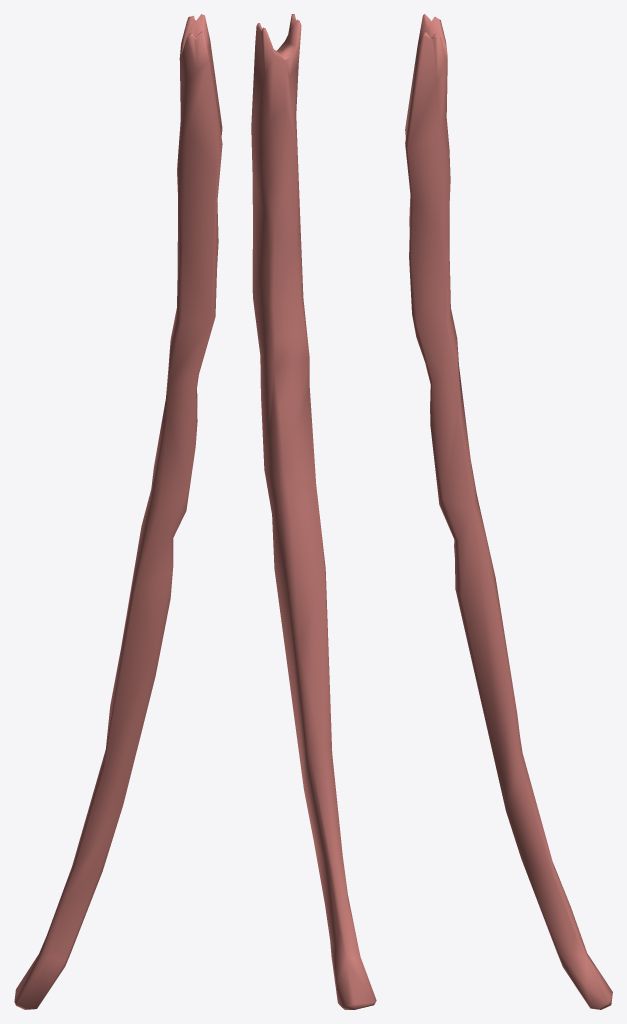
The picture shows the model from 3 angles, left to right: view 1: azimuth 90°, elevation 25°; view 2: azimuth 210°, elevation 25°; view 3: azimuth 270°, elevation 25°; orthographic projection. The views are drawn at different scales.
Parts seen in each view (by area): view 1: ZA_aee7d26d67eba3a5; view 2: ZA_aee7d26d67eba3a5; view 3: ZA_aee7d26d67eba3a5.
Boxes of the visible parts, x1,y1,x2,y2 form: ZA_aee7d26d67eba3a5: [14, 14, 222, 1009]; ZA_aee7d26d67eba3a5: [251, 14, 376, 1009]; ZA_aee7d26d67eba3a5: [405, 14, 612, 1009].
Bounding box in the file's own units: 0.018 × 0.3959 × 0.076.
